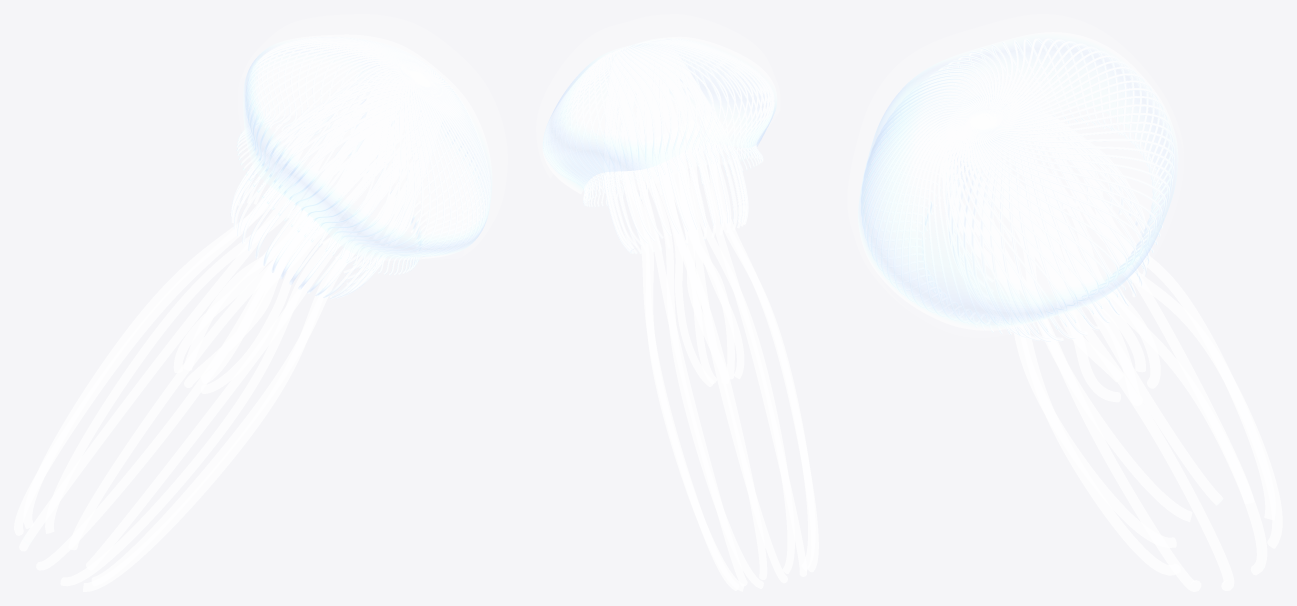
File: kurage.glb
3 views of the same model, side by side, from view 1: azimuth 30°, elevation 25°; view 2: azimuth 150°, elevation 25°; view 3: azimuth 270°, elevation 25° (orthographic). The views are drawn at different scales.
Parts seen in each view (by area): view 1: 傘1, ヒレ1, ヒレ4, ヒレ2, ヒレ3, 傘2; view 2: ヒレ1, 傘1, ヒレ4, ヒレ2, ヒレ3, 傘2; view 3: 傘1, ヒレ4, ヒレ1, ヒレ2, 傘2, ヒレ3.
Part boxes in pixels (x1,y1,x2,y2): 傘1: (243, 34, 492, 260); ヒレ1: (14, 73, 434, 591); ヒレ4: (236, 37, 490, 275); ヒレ2: (230, 67, 440, 299); ヒレ3: (173, 90, 410, 393); 傘2: (241, 14, 507, 255); ヒレ1: (606, 50, 818, 591); 傘1: (542, 36, 777, 193); ヒレ4: (543, 38, 774, 206); ヒレ2: (603, 48, 748, 253); ヒレ3: (634, 54, 744, 386); 傘2: (536, 14, 779, 177); 傘1: (858, 32, 1178, 330); ヒレ4: (861, 38, 1174, 335); ヒレ1: (942, 113, 1282, 591); ヒレ2: (943, 103, 1149, 341); 傘2: (848, 14, 1183, 310); ヒレ3: (982, 143, 1160, 405).
Size of the model in its own units: 3.53 by 4.9 by 2.92.
